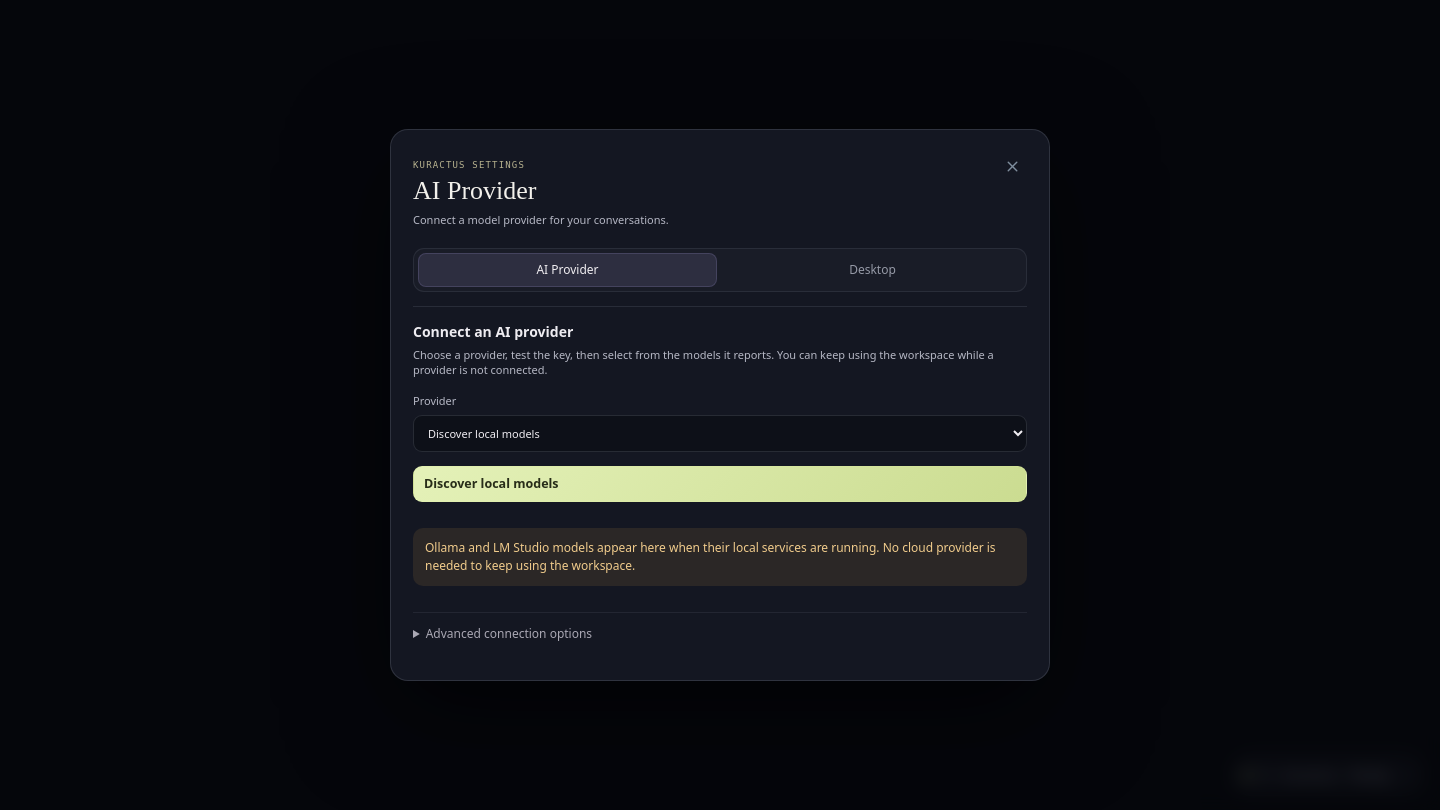
DesktopRuntimeControl settings › connects with a secure key, discovers real models, and activates the model the user selects
Later steps or results of the test are not shown.
Expected: the dialog "AI Provider" is shown, [390,130,1050,680]
Select "OpenAI" in the dropdown labelled "Provider". click: (720, 433)
box: [413,415,1027,452]
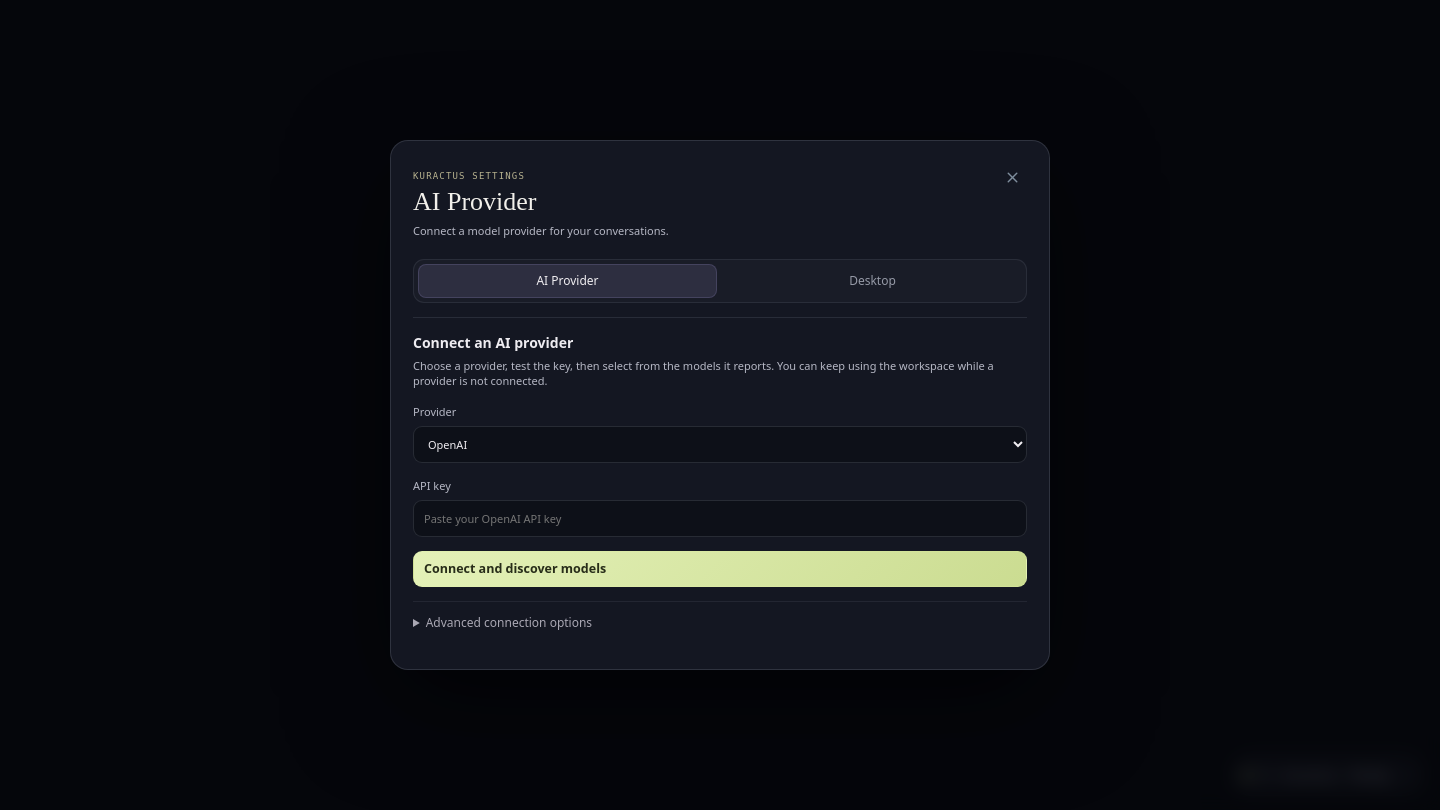
Type "sk-private-test" into the password field with placeholder "Paste your OpenAI API key". click: (720, 518)
box: [413,500,1027,537]
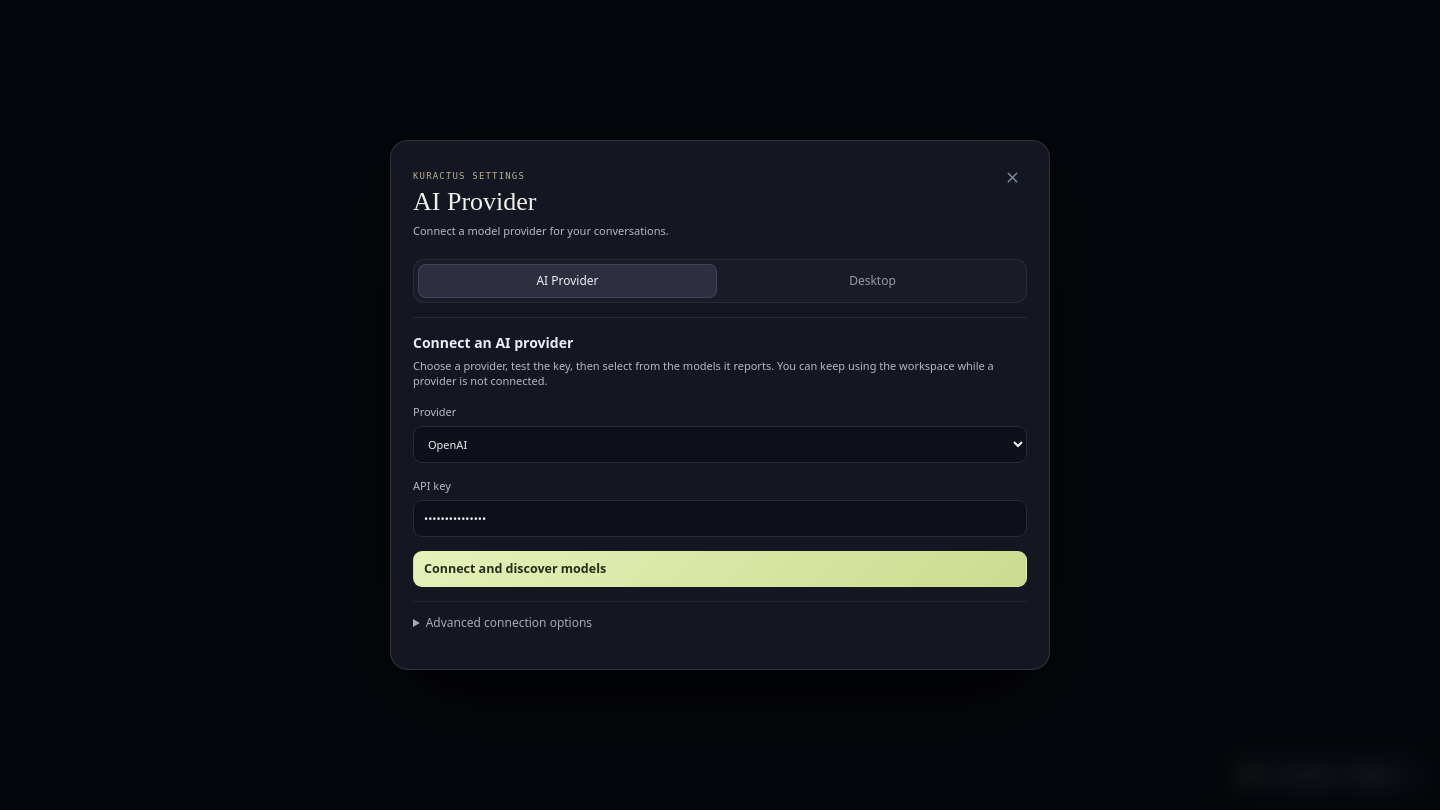
Click the button "Connect and discover models". click: click(515, 569)
box: [413,551,1027,587]
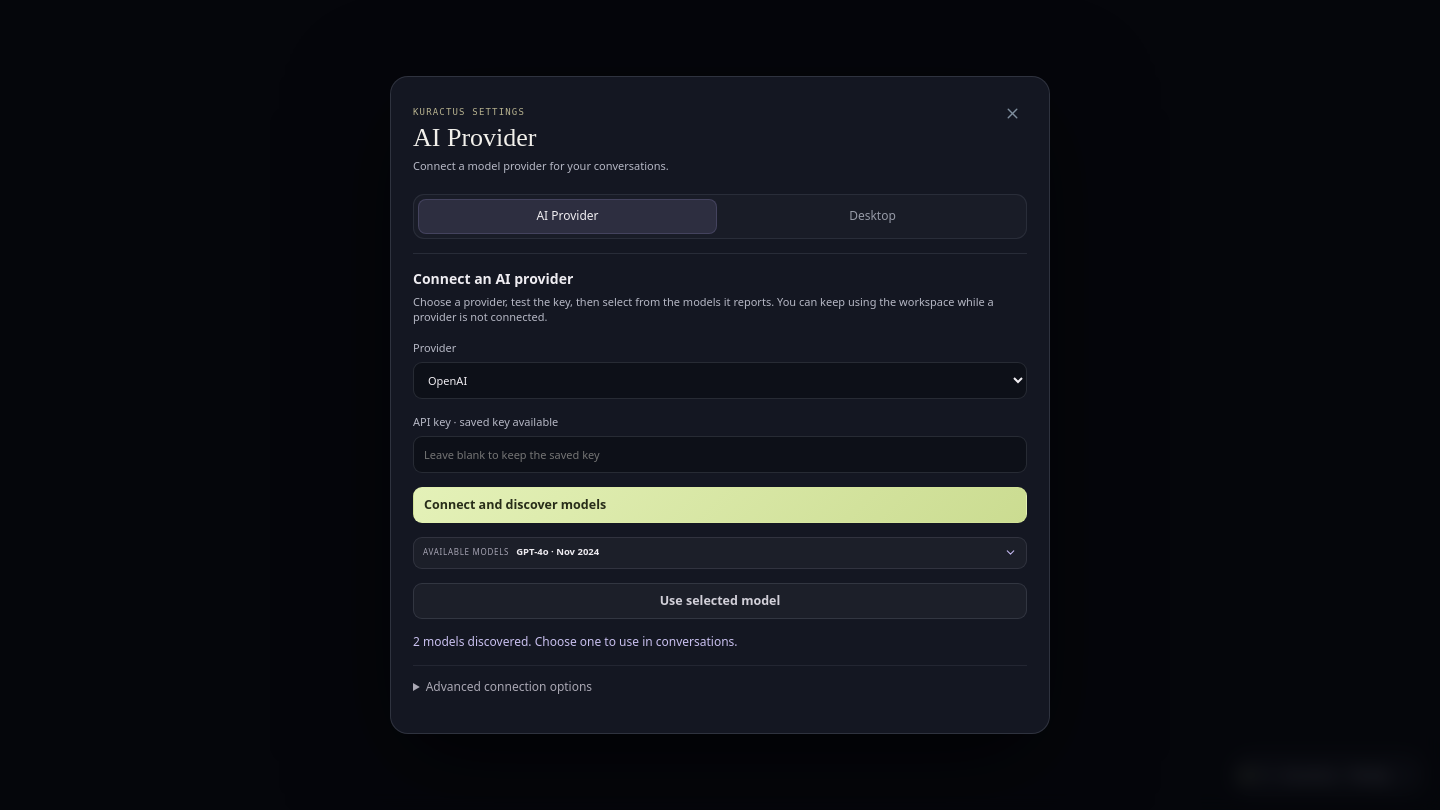
Now the text "2 models discovered. Choose one to use in conversations." is shown, box [413,633,738,650]
Now the button with aria-label "Provider model" shows "GPT-4o · Nov 2024", box [413,537,1027,569]
